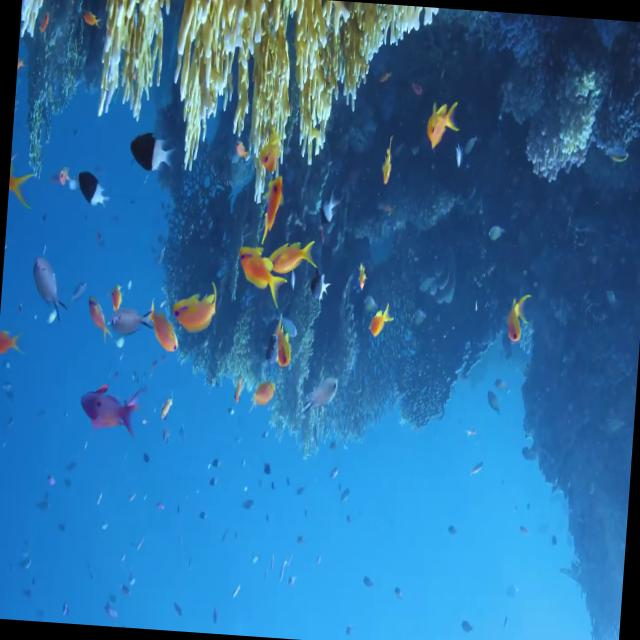fish: (76, 372, 140, 439), (233, 243, 290, 306), (421, 81, 466, 158), (264, 226, 322, 282), (27, 258, 70, 318), (170, 285, 220, 334), (126, 134, 176, 178), (75, 166, 109, 217)
